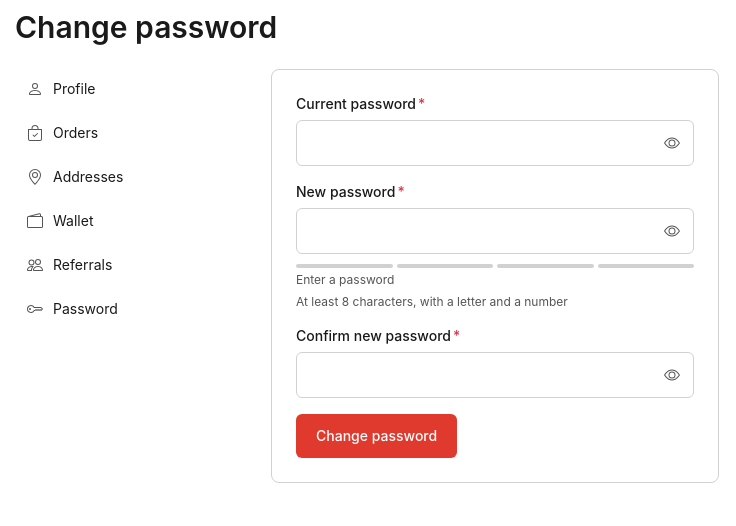
Test: ChangePasswordPage › puts a wrong current password on that field
The image size is (736, 526).
Type "wrongpassword1" into the password field labelled "Current password".
click(495, 143); type("wrongpassword1")  # box [296,120,694,166]
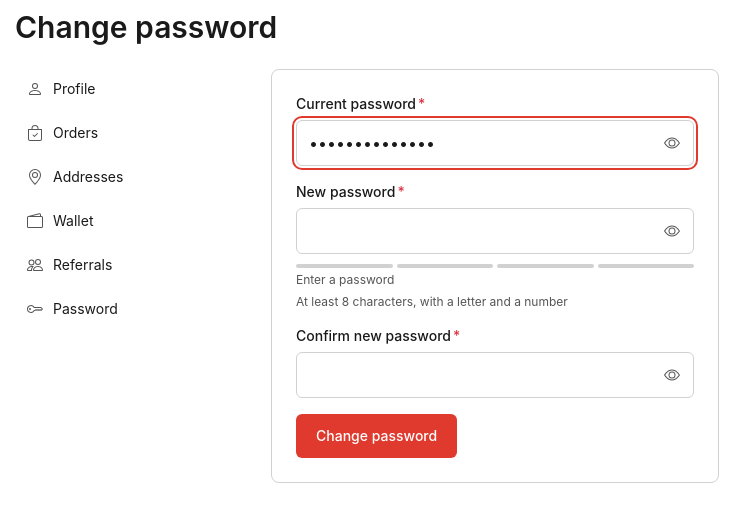
Type "newpassword1" into the password field labelled "New password".
click(495, 231); type("newpassword1")  # box [296,208,694,254]
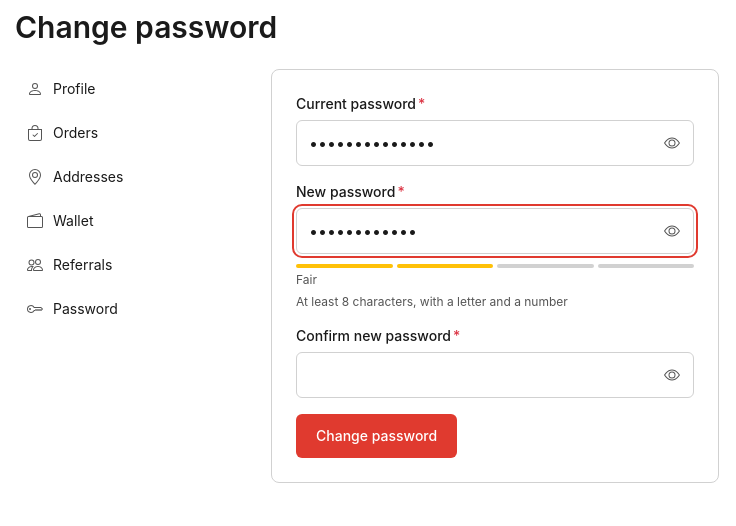
Type "newpassword1" into the password field labelled "Confirm new password".
click(495, 375); type("newpassword1")  # box [296,352,694,398]
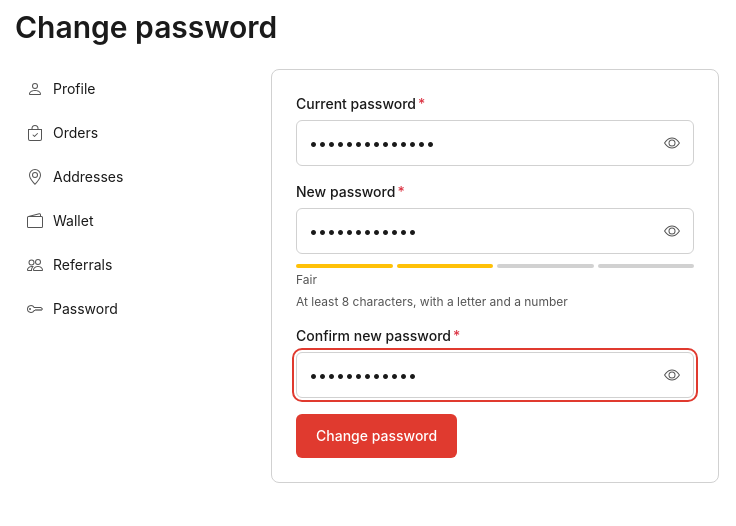
Click the button "Change password".
click(377, 436)  # box [296,414,457,458]
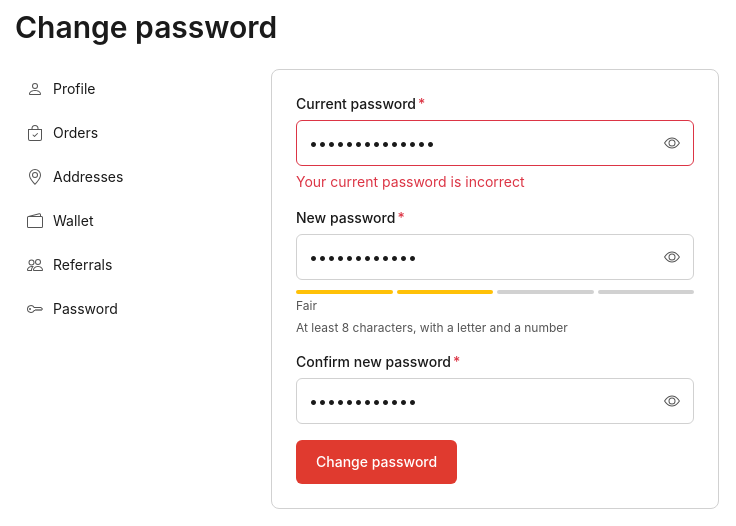
expect the text "Your current password is incorrect" is shown: met, box [296,173,525,190]
